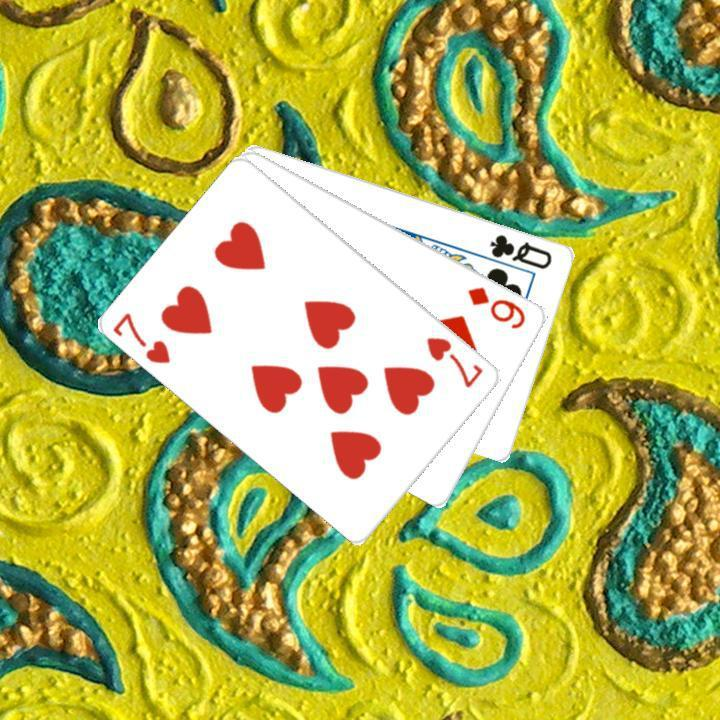6: (463, 282, 529, 331)
7: (108, 308, 174, 366), (422, 332, 486, 390)
Q: (485, 229, 555, 271)
